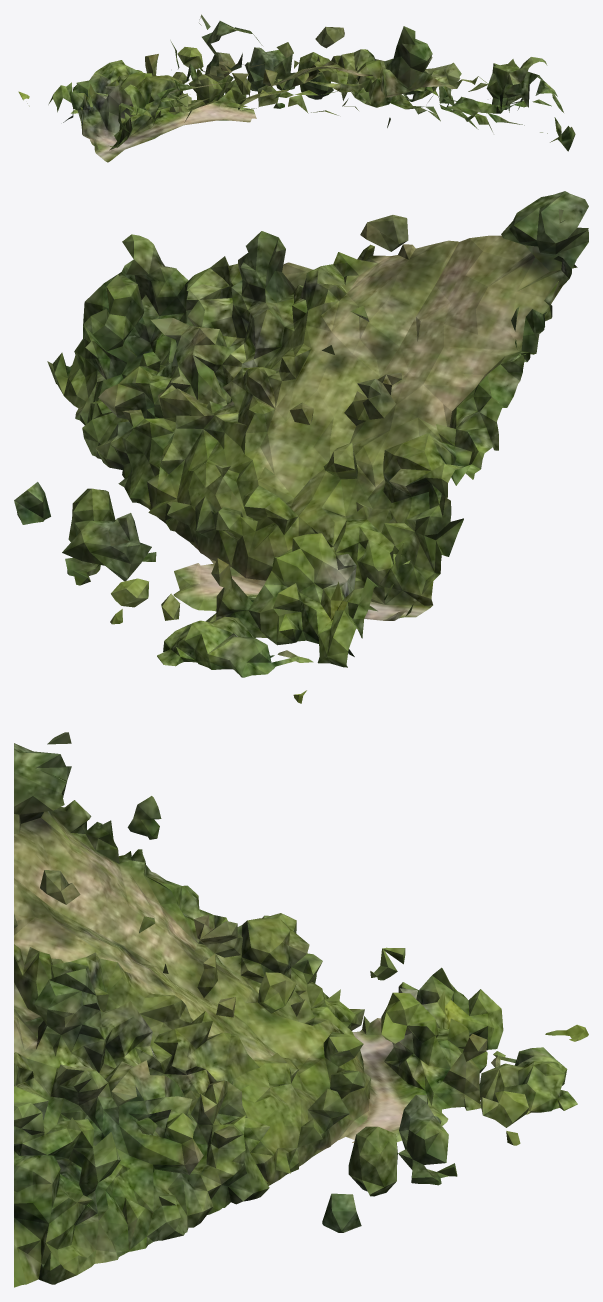
3 views of the same model, one above another, from view 1: azimuth 30°, elevation 25°; view 2: azimuth 150°, elevation 25°; view 3: azimuth 270°, elevation 25° (orthographic). The views are drawn at different scales.
Size of the model in its own units: 100 by 55.95 by 96.03.
Materials: 3 (3 with a texture image).
